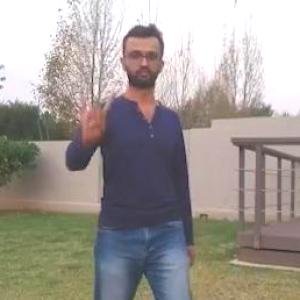takeoff-hand: (71, 84, 115, 142)
